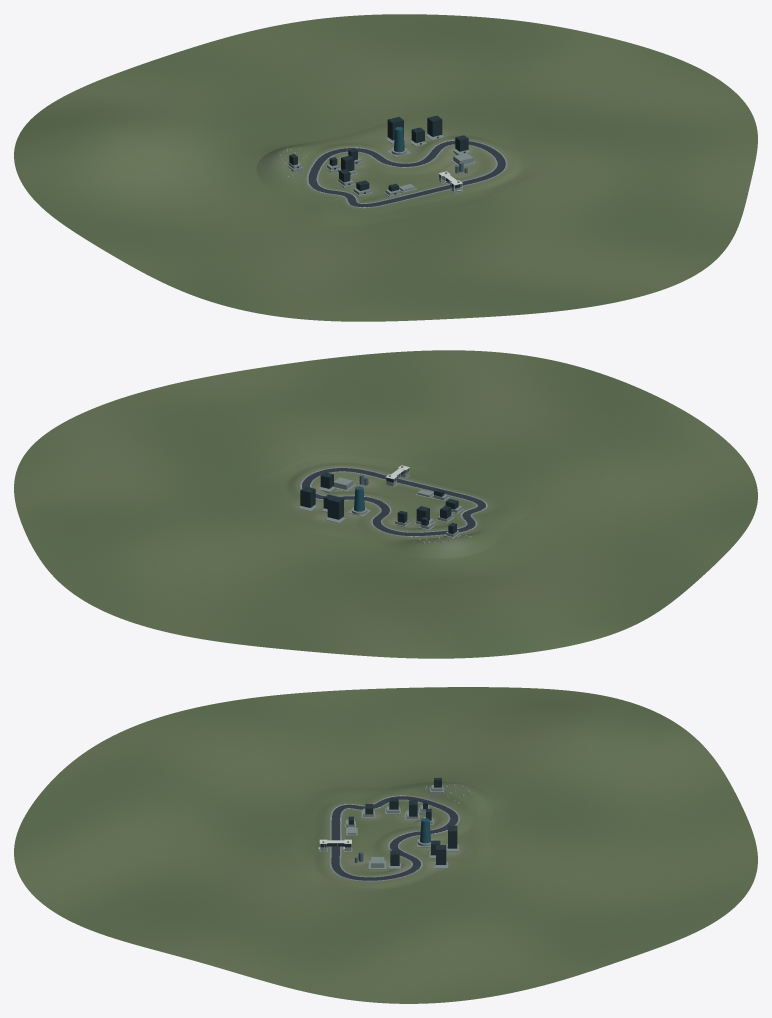
Rendered from 035_nexus_circuit_COLLIDERS.glb.
3 renders of one model, top to bottom at view 1: azimuth 30°, elevation 25°; view 2: azimuth 150°, elevation 25°; view 3: azimuth 270°, elevation 25°, orthographic.
Parts seen in each view (by area): view 1: COL_ENV_TERRAIN_DISTANT_LANDSCAPE, COL_ENV_TERRAIN_CITY_INTEGRATED_LAND, COL_TRACK_RACE_SURFACE_18m, COL_CITY_Research_Blocks__dark, COL_CITY_West_Civic__dark, COL_CITY_SIDEWALK_-1, COL_CITY_West_Civic__cement, COL_CITY_SIDEWALK_1; view 2: COL_ENV_TERRAIN_DISTANT_LANDSCAPE, COL_ENV_TERRAIN_CITY_INTEGRATED_LAND, COL_TRACK_RACE_SURFACE_18m, COL_CITY_Research_Blocks__dark, COL_CITY_West_Civic__dark, COL_CITY_SIDEWALK_-1, COL_CITY_West_Civic__cement, COL_CITY_SIDEWALK_1; view 3: COL_ENV_TERRAIN_DISTANT_LANDSCAPE, COL_ENV_TERRAIN_CITY_INTEGRATED_LAND, COL_TRACK_RACE_SURFACE_18m, COL_CITY_Research_Blocks__dark, COL_CITY_West_Civic__dark, COL_CITY_West_Civic__cement, COL_CITY_SIDEWALK_-1.
Boxes of the visible parts, bbox=[...] form: COL_ENV_TERRAIN_DISTANT_LANDSCAPE: bbox=[14, 14, 757, 321]; COL_ENV_TERRAIN_CITY_INTEGRATED_LAND: bbox=[256, 115, 539, 226]; COL_TRACK_RACE_SURFACE_18m: bbox=[308, 140, 505, 207]; COL_CITY_Research_Blocks__dark: bbox=[387, 115, 468, 153]; COL_CITY_West_Civic__dark: bbox=[289, 148, 398, 194]; COL_CITY_SIDEWALK_-1: bbox=[306, 140, 507, 208]; COL_CITY_West_Civic__cement: bbox=[287, 148, 401, 196]; COL_CITY_SIDEWALK_1: bbox=[317, 144, 497, 203]; COL_ENV_TERRAIN_DISTANT_LANDSCAPE: bbox=[14, 350, 757, 658]; COL_ENV_TERRAIN_CITY_INTEGRATED_LAND: bbox=[245, 454, 531, 558]; COL_TRACK_RACE_SURFACE_18m: bbox=[302, 468, 485, 536]; COL_CITY_Research_Blocks__dark: bbox=[300, 472, 343, 519]; COL_CITY_West_Civic__dark: bbox=[397, 489, 458, 533]; COL_CITY_SIDEWALK_-1: bbox=[300, 467, 487, 536]; COL_CITY_West_Civic__cement: bbox=[394, 490, 464, 537]; COL_CITY_SIDEWALK_1: bbox=[310, 471, 477, 532]; COL_ENV_TERRAIN_DISTANT_LANDSCAPE: bbox=[14, 687, 757, 1003]; COL_ENV_TERRAIN_CITY_INTEGRATED_LAND: bbox=[292, 782, 492, 897]; COL_TRACK_RACE_SURFACE_18m: bbox=[331, 796, 458, 880]; COL_CITY_Research_Blocks__dark: bbox=[390, 825, 457, 865]; COL_CITY_West_Civic__dark: bbox=[345, 777, 441, 824]; COL_CITY_West_Civic__cement: bbox=[344, 785, 443, 828]; COL_CITY_SIDEWALK_-1: bbox=[329, 795, 460, 881].
Size of what is drawn, in the model's own units: 1623 by 72.52 by 1624.
Materials: 12 (3 with a texture image).
